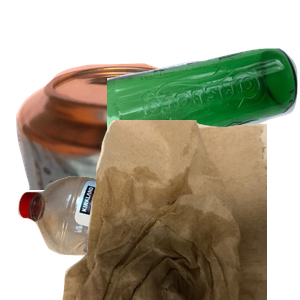glass: (107, 46, 300, 197)
metal: (13, 61, 240, 241)
plastic: (15, 173, 222, 300)
trash: (60, 120, 300, 300)
